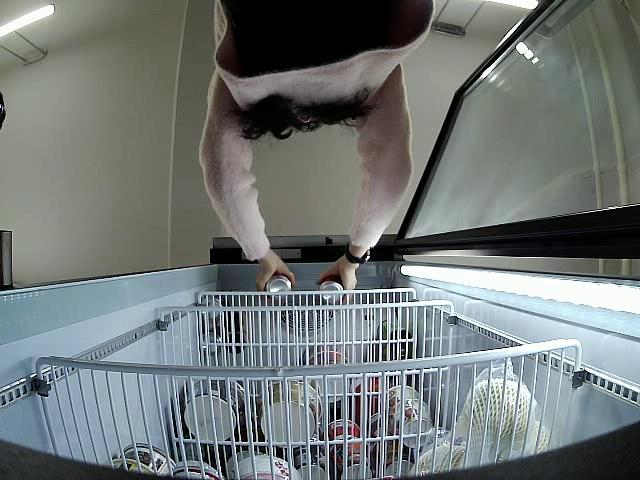00_hand: (316, 257, 357, 305), (255, 259, 296, 299)
